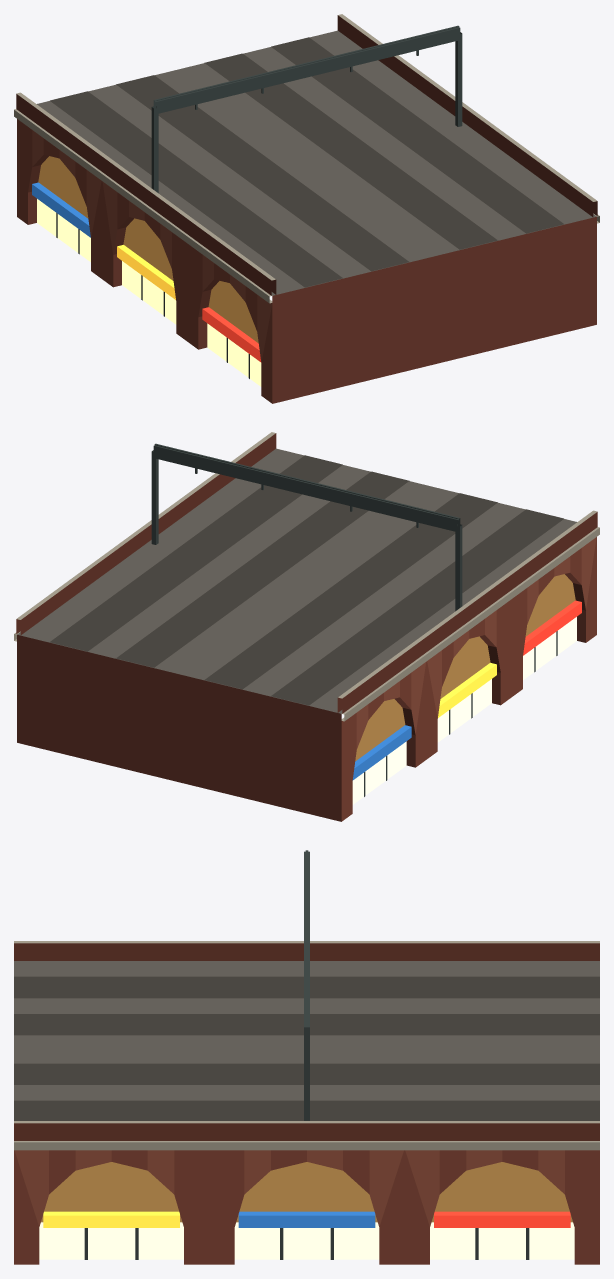
The model's file is rail_viaduct_segment.glb.
The picture shows the model from 3 angles, top to bottom: view 1: azimuth 30°, elevation 25°; view 2: azimuth 150°, elevation 25°; view 3: azimuth 270°, elevation 25°; orthographic projection. The views are drawn at different scales.
Visible parts, largest first — view 1: rail_viaduct_segment; view 2: rail_viaduct_segment; view 3: rail_viaduct_segment.
Part boxes in pixels (<box>): rail_viaduct_segment: <box>14,14,599,403</box>; rail_viaduct_segment: <box>14,432,599,821</box>; rail_viaduct_segment: <box>14,850,599,1264</box>.
Size of the model in its own units: 22.4 by 13.46 by 30.
1 material, 1 textured.
